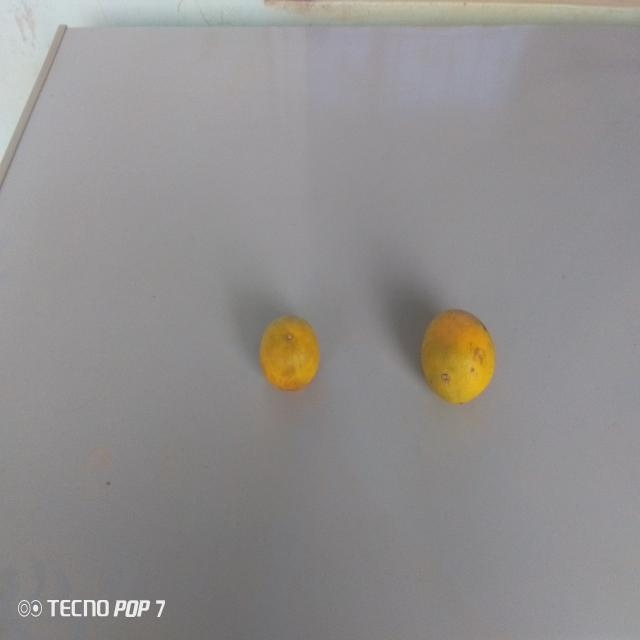agrume: (409, 293, 501, 414), (248, 307, 329, 400)
